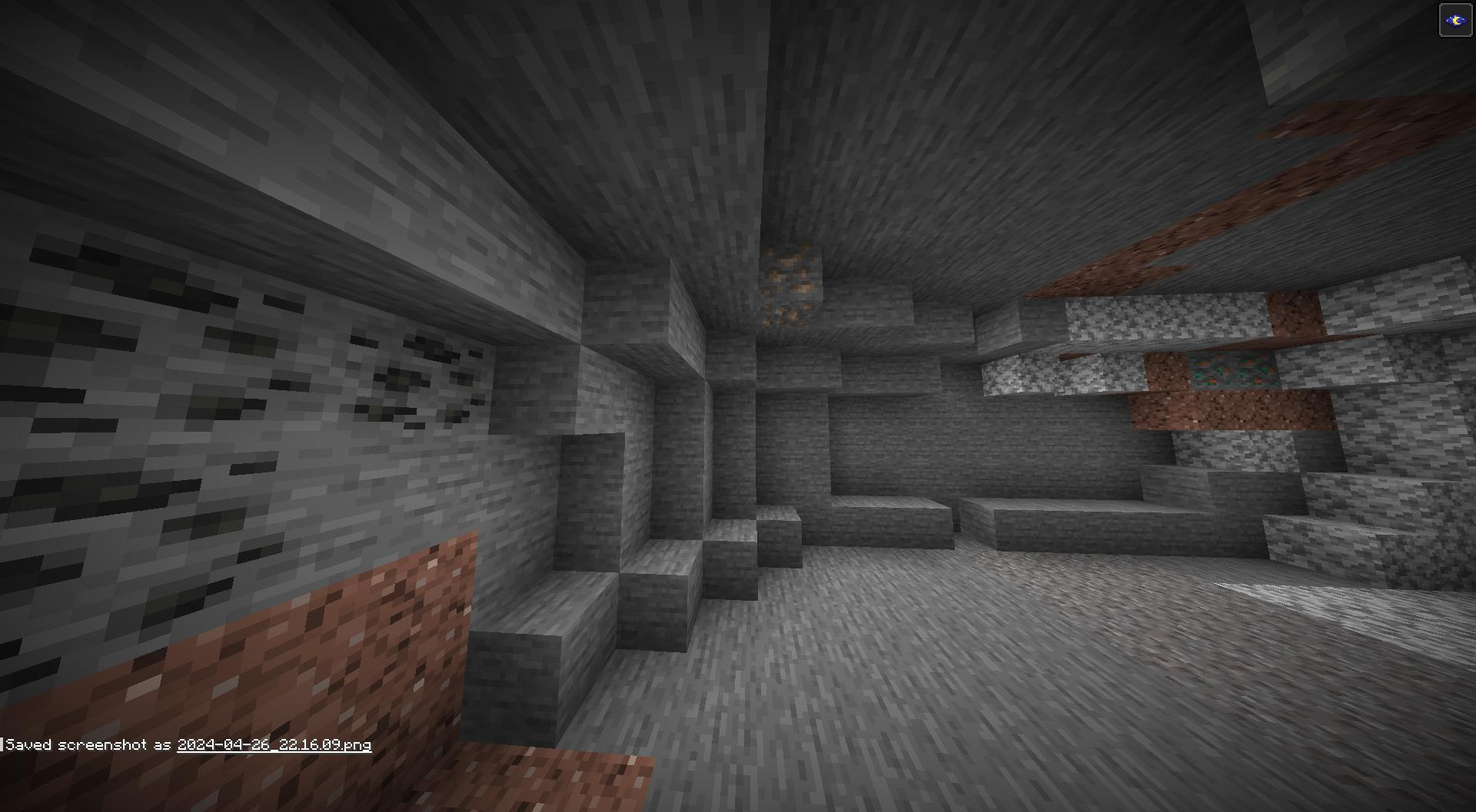iron ore: (754, 243, 821, 302), (757, 295, 814, 333)
